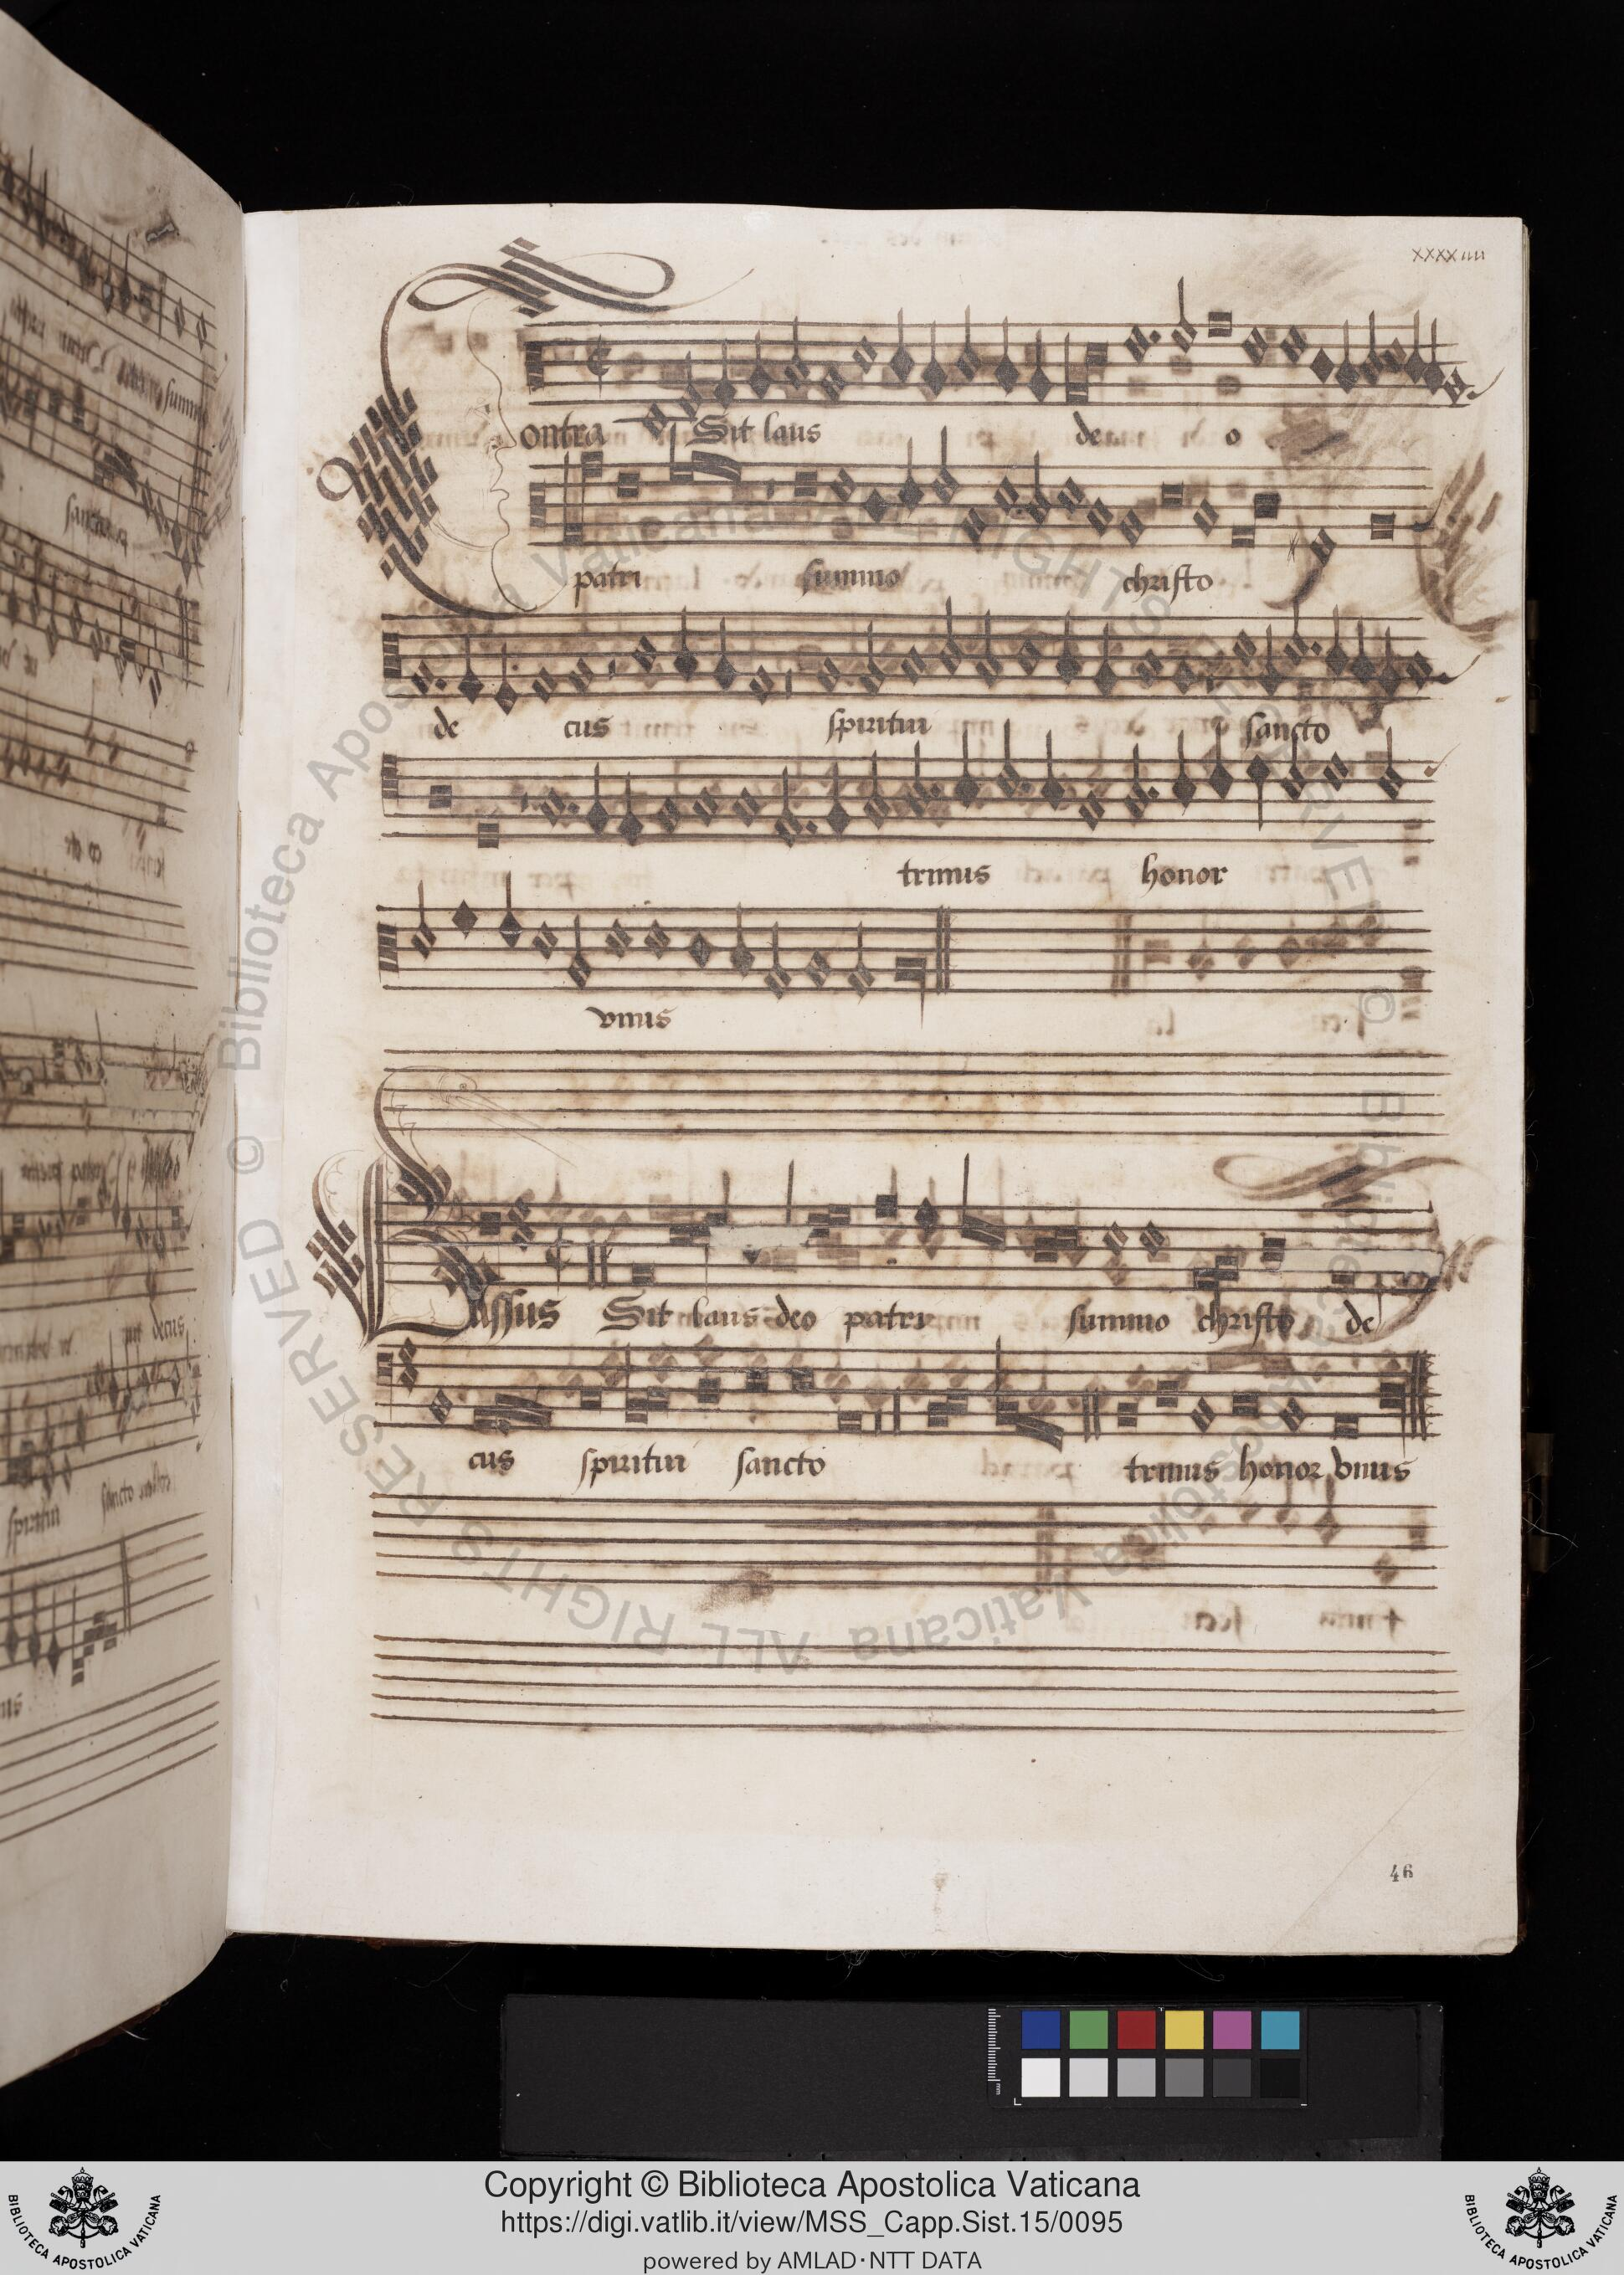barline: (930, 892, 960, 1008)
c clef_7: (367, 894, 406, 1005)
colored semibreve_4: (441, 884, 482, 950)
colored semibreve_7: (678, 914, 722, 979)
longa_9: (879, 931, 933, 1028)
minim_10: (759, 903, 796, 1014), (840, 903, 877, 1008)
minim_6: (404, 871, 441, 975)
minim_9: (561, 894, 596, 996)
semibreve_6: (636, 901, 677, 971), (599, 899, 636, 970), (526, 908, 564, 973)
semibreve_9: (800, 931, 840, 1001)
semiminim_5: (494, 868, 526, 959)
semiminim_8: (724, 891, 756, 987)
